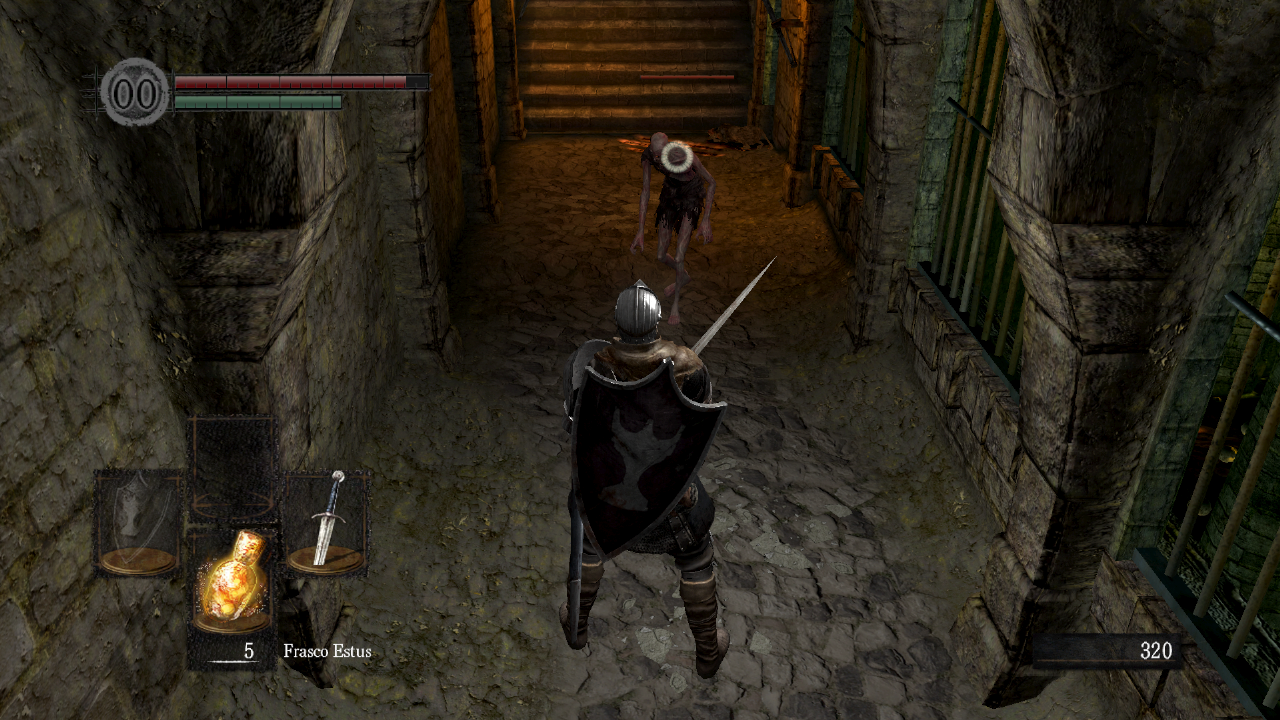hollow: (630, 132, 716, 325)
player: (559, 276, 732, 678)
